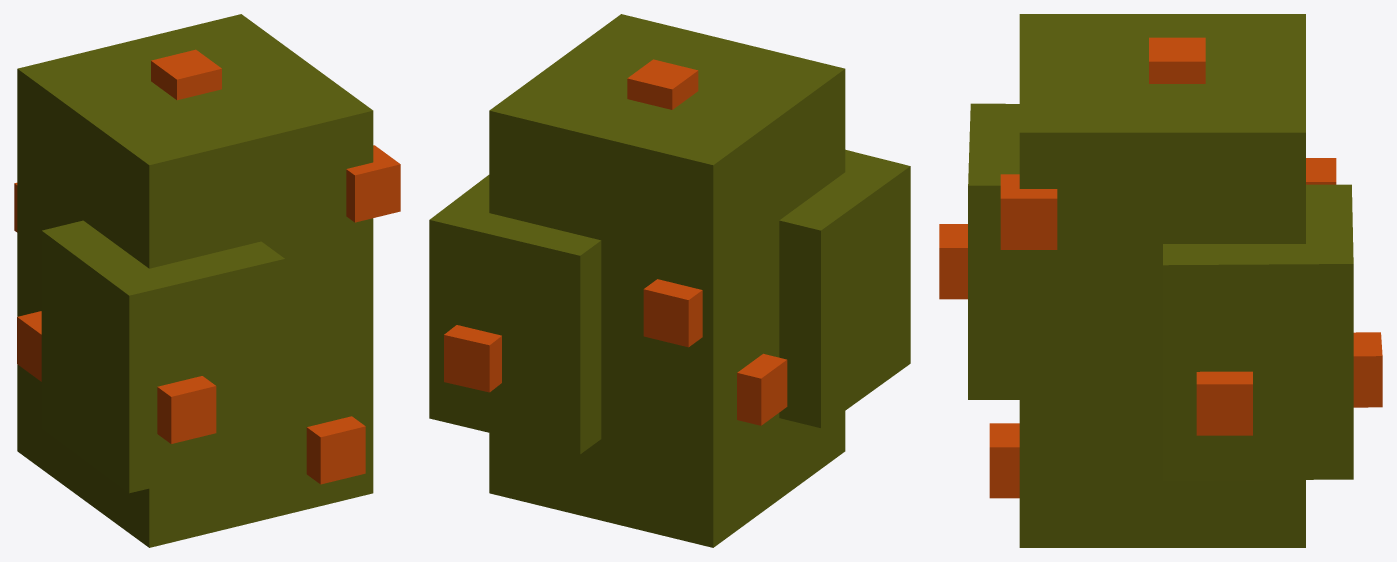
Rendered from Shrub1.fbx.
3 renders of one model, left to right at view 1: azimuth 30°, elevation 25°; view 2: azimuth 150°, elevation 25°; view 3: azimuth 270°, elevation 25°, orthographic. The views are drawn at different scales.
Visible parts, largest first — view 1: Cube.026, Cube.021; view 2: Cube.026, Cube.021; view 3: Cube.026, Cube.021.
Boxes of the visible parts, left/top/right/bottom form: Cube.026: left=17, top=14, right=373, bottom=547; Cube.021: left=14, top=49, right=400, bottom=484; Cube.026: left=429, top=14, right=910, bottom=547; Cube.021: left=444, top=59, right=787, bottom=425; Cube.026: left=968, top=14, right=1353, bottom=547; Cube.021: left=939, top=37, right=1382, bottom=498.
Bounding box in the file's own units: 3901 × 4554 × 4179.
